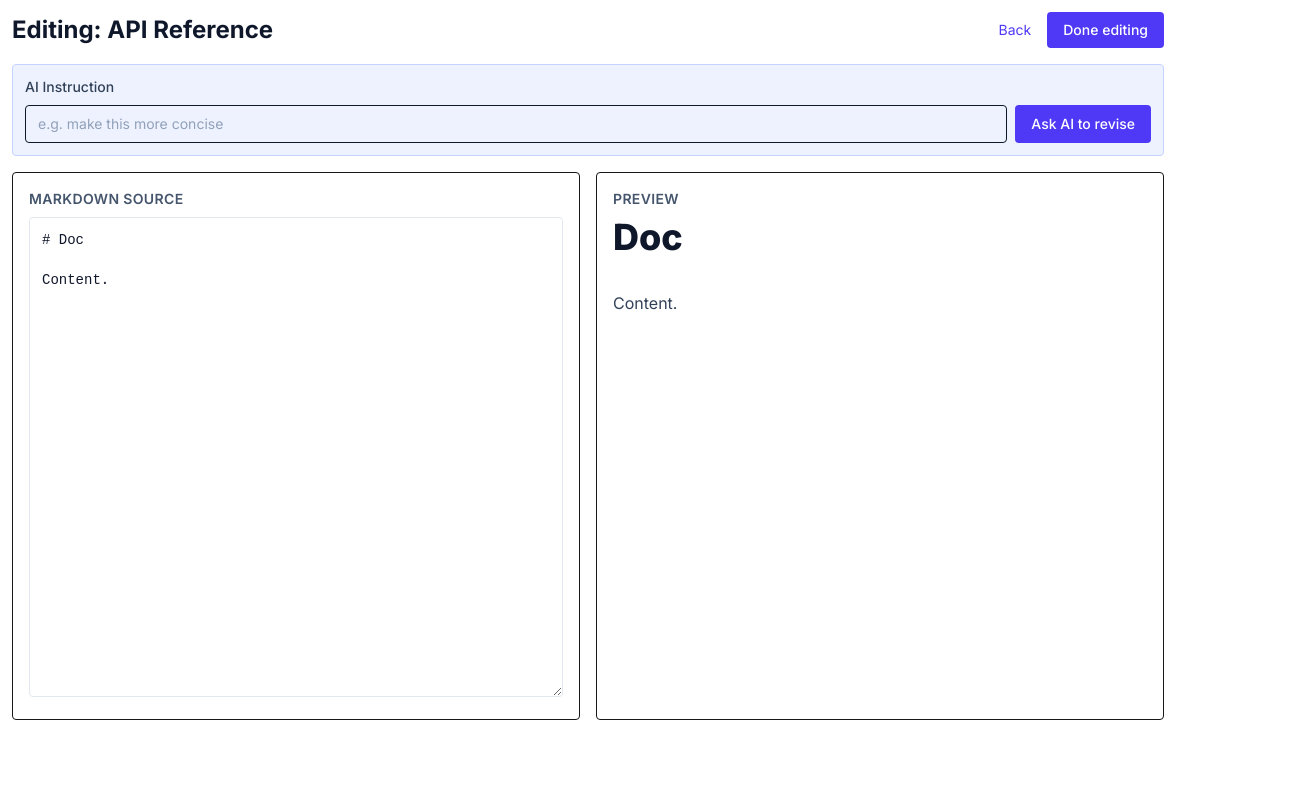
Test: Document edit page — autosave › shows a save-failed warning and leaves textarea content unchanged when autosave fails
Replace the text in the text box named "markdown source" with "content that fails to save": (296, 457) [29,217,563,697]
Wait 4000 ms
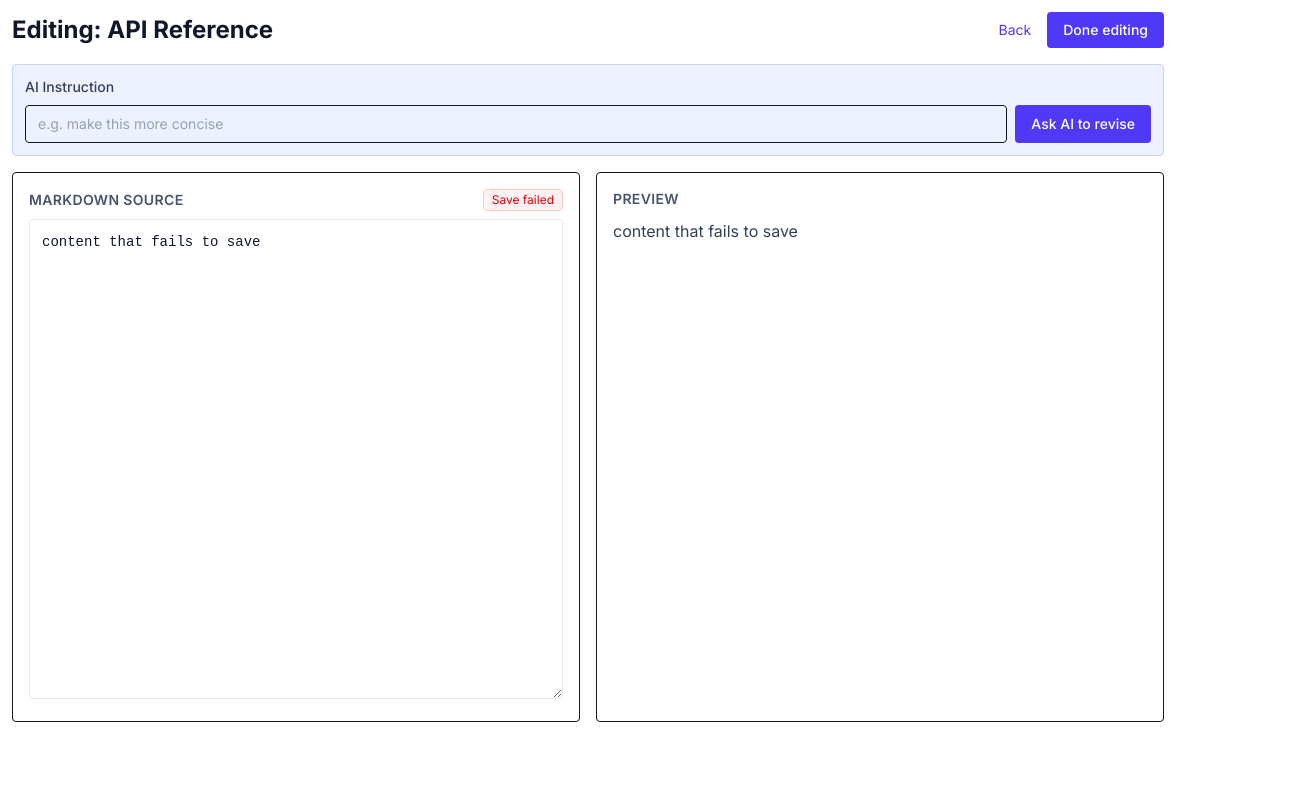
Expected: the text "Save failed" is shown, [483,189,563,211]
